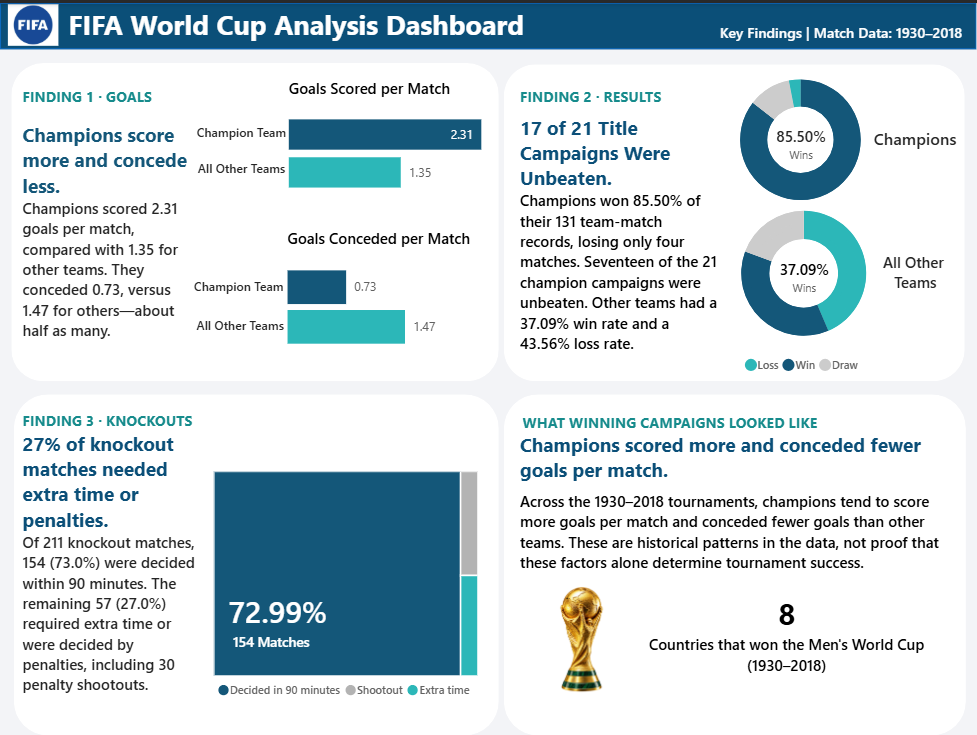

The dashboard page shown, as its layout file describes it:
{"tool":"powerbi","page":{"name":"Page 3","canvas":[960,720],"ordinal":2},"visuals":[{"type":"shape","box":[0,0,959.5,45.4],"z":0,"group":"g1"},{"type":"clusteredBarChart","fields":{"Y":["Team Match Results.Champion Goals Scored per Match","Team Match Results.Other Teams Goals Scored per Match"]},"box":[22.1,144.8,300,300],"z":0},{"type":"textbox","box":[45,3,483.4,44.2],"z":1000,"group":"g1"},{"type":"shape","box":[11.2,58.8,478.8,312.5],"z":1000},{"type":"group","id":"g1","title":"Group 1","box":[0,0,959.5,47.2],"z":1500,"group":"g2"},{"type":"image","box":[6.1,1.2,52.8,40.5],"z":2000,"group":"g2"},{"type":"shape","box":[495,60,452.5,311.2],"z":2000},{"type":"shape","box":[13.8,383.8,476.2,335],"z":3000},{"type":"shape","box":[495,383.8,453.8,335],"z":4000},{"type":"group","id":"g2","title":"Group 2","box":[0,0,959.5,47.2],"z":5000},{"type":"clusteredBarChart","title":"Goals Conceded per Match","fields":{"Y":["Team Match Results.Other Teams Goals Conceded per Match","Team Match Results.Champion Goals Conceded per Match"]},"box":[265.9,206.2,228.2,165],"z":6000},{"type":"clusteredBarChart","title":"Goals Scored per Match","fields":{"Y":["Team Match Results.Champion Goals Scored per Match","Team Match Results.Other Teams Goals Scored per Match"]},"box":[267.8,58.8,236.2,157.5],"z":7000},{"type":"textbox","box":[180.4,267,108.1,33.7],"z":8000},{"type":"textbox","box":[185.3,152.7,103.7,18.5],"z":9000},{"type":"textbox","box":[181,305,108.5,19.4],"z":10000},{"type":"textbox","box":[185.3,116.2,103.7,18.5],"z":11000},{"type":"textbox","box":[22.5,116.2,162.5,243.8],"z":12000},{"type":"textbox","box":[22.5,82,246.2,26.2],"z":13000},{"type":"textbox","box":[22.5,400,246.2,26.2],"z":14000},{"type":"donutChart","fields":{"Category":["Team Match Results.Result"],"Y":["CountNonNull(Team Match Results.Team)"]},"box":[696.2,41.2,180,186.2],"z":15000},{"type":"donutChart","fields":{"Category":["Team Match Results.Result"],"Y":["CountNonNull(Team Match Results.Team)"]},"box":[691,174,196.2,210],"z":16000},{"type":"cardVisual","fields":{"Data":["Team Match Results.Other Teams Win Rate"]},"box":[744,247,92.5,45],"z":17000},{"type":"cardVisual","fields":{"Data":["Team Match Results.Champion Win Rate"]},"box":[745,108,83.8,61.2],"z":18000},{"type":"textbox","box":[510,82.5,246.2,26.2],"z":19000},{"type":"textbox","box":[856.2,121.2,83.8,52.5],"z":20000},{"type":"textbox","box":[842.5,243.8,111.2,51.2],"z":21000},{"type":"textbox","box":[510,109,196,244],"z":22000},{"type":"treemap","fields":{"Group":["world_cup_matches.Knockout Match Outcome"],"Values":["CountNonNull(world_cup_matches.ID)"]},"box":[193.8,445,291.2,257.5],"z":23000},{"type":"cardVisual","fields":{"Data":["world_cup_matches.Decided in 90 Minutes %"]},"box":[208.8,567.5,148.8,56.2],"z":26000},{"type":"textbox","box":[207.5,617.5,117.5,26.2],"z":27000},{"type":"textbox","box":[22.5,420,175,272.5],"z":30000},{"type":"textbox","box":[510,421.2,415,98.8],"z":31000},{"type":"textbox","box":[510.4,478.5,428.8,83.8],"z":32000},{"type":"textbox","box":[512.9,402.5,343.6,23.3],"z":33000},{"type":"cardVisual","fields":{"Data":["world_cups.Title Winners"]},"box":[619.6,568.1,305.5,105.5],"z":34000},{"type":"image","box":[512.9,570.6,121.5,108],"z":35000},{"type":"textbox","box":[706.8,19.6,247.9,39.3],"z":36000}]}

Visuals, with their boxes in screenshot pixels (x1, y1, x2, y2), scaled from the page's 960x720 canvas onto the 977x735 screenshot:
shape: <box>0,0,976,46</box>
clusteredBarChart - Team Match Results.Champion Goals Scored per Match x Team Match Results.Other Teams Goals Scored per Match: <box>22,148,328,454</box>
textbox: <box>46,3,538,48</box>
shape: <box>11,60,499,379</box>
"Group 1" group: <box>0,0,976,48</box>
image: <box>6,1,60,43</box>
shape: <box>504,61,964,379</box>
shape: <box>14,392,499,734</box>
shape: <box>504,392,966,734</box>
"Group 2" group: <box>0,0,976,48</box>
"Goals Conceded per Match" clusteredBarChart: <box>271,210,503,379</box>
"Goals Scored per Match" clusteredBarChart: <box>273,60,513,221</box>
textbox: <box>184,273,294,307</box>
textbox: <box>189,156,294,175</box>
textbox: <box>184,311,295,331</box>
textbox: <box>189,119,294,138</box>
textbox: <box>23,119,188,368</box>
textbox: <box>23,84,273,110</box>
textbox: <box>23,408,273,435</box>
donutChart - Team Match Results.Result x CountNonNull(Team Match Results.Team): <box>709,42,892,232</box>
donutChart - Team Match Results.Result x CountNonNull(Team Match Results.Team): <box>703,178,903,392</box>
cardVisual - Team Match Results.Other Teams Win Rate: <box>757,252,851,298</box>
cardVisual - Team Match Results.Champion Win Rate: <box>758,110,843,173</box>
textbox: <box>519,84,770,111</box>
textbox: <box>871,124,957,177</box>
textbox: <box>857,249,971,301</box>
textbox: <box>519,111,719,360</box>
treemap - world_cup_matches.Knockout Match Outcome x CountNonNull(world_cup_matches.ID): <box>197,454,494,717</box>
cardVisual - world_cup_matches.Decided in 90 Minutes %: <box>212,579,364,637</box>
textbox: <box>211,630,331,657</box>
textbox: <box>23,429,201,707</box>
textbox: <box>519,430,941,531</box>
textbox: <box>519,488,956,574</box>
textbox: <box>522,411,872,435</box>
cardVisual - world_cups.Title Winners: <box>631,580,941,688</box>
image: <box>522,582,646,693</box>
textbox: <box>719,20,972,60</box>
